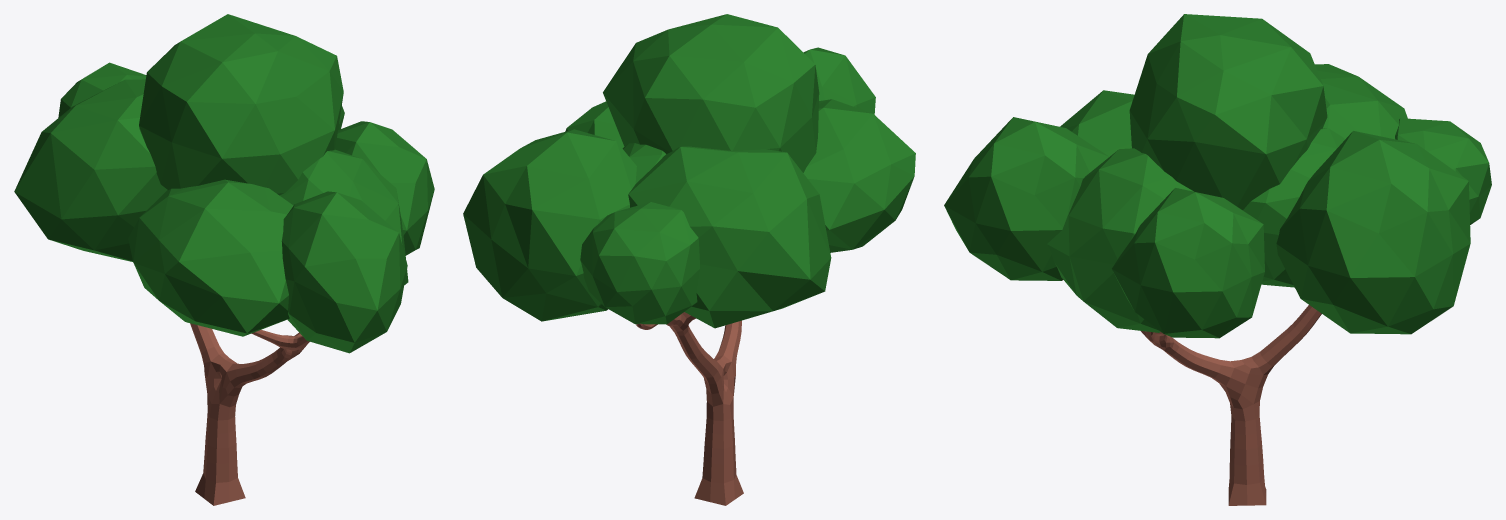
File: tree4.0.fbx
3 views of the same model, side by side, from view 1: azimuth 30°, elevation 25°; view 2: azimuth 150°, elevation 25°; view 3: azimuth 270°, elevation 25° (orthographic). The views are drawn at different scales.
Visible parts, largest first — view 1: Icosphere; view 2: Icosphere; view 3: Icosphere.
Part boxes in pixels (<box>): Icosphere: <box>14,14,434,505</box>; Icosphere: <box>463,14,915,505</box>; Icosphere: <box>944,14,1491,505</box>.
Bounding box in the file's own units: 893 × 1206 × 1265.
